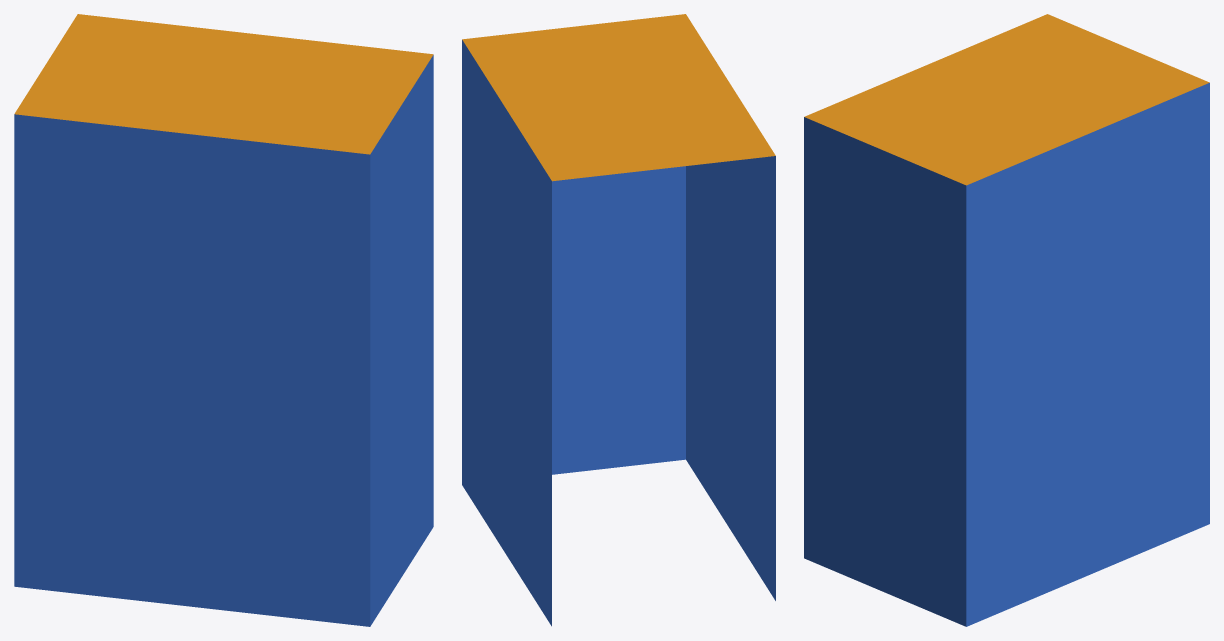
The model's file is walls_type_13.glb.
3 renders of one model, left to right at view 1: azimuth 30°, elevation 25°; view 2: azimuth 150°, elevation 25°; view 3: azimuth 270°, elevation 25°, orthographic. The views are drawn at different scales.
Parts seen in each view (by area): view 1: Type_13; view 2: Type_13; view 3: Type_13.
Boxes of the visible parts, <box> form: Type_13: <box>14,14,433,626</box>; Type_13: <box>462,14,775,626</box>; Type_13: <box>804,14,1209,626</box>.
Bounding box in the file's own units: 0.8333 × 1 × 0.8333.
